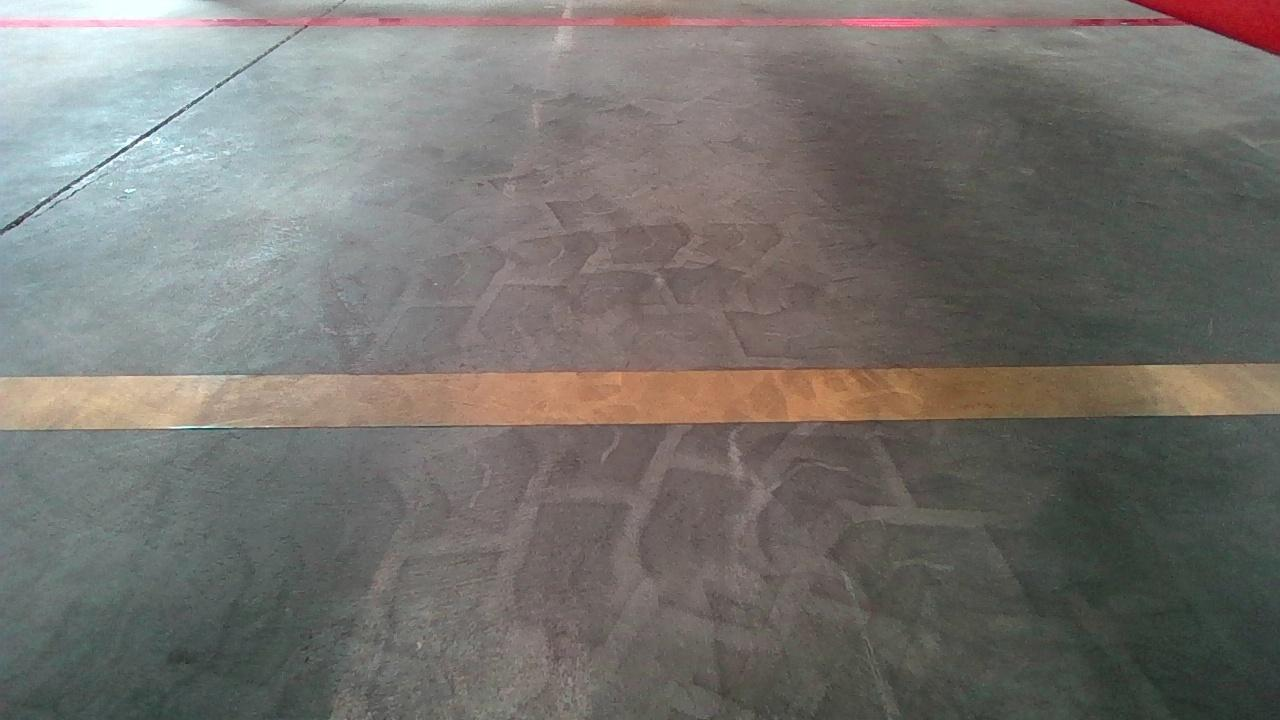yellow_line: (5, 360, 1278, 428)
